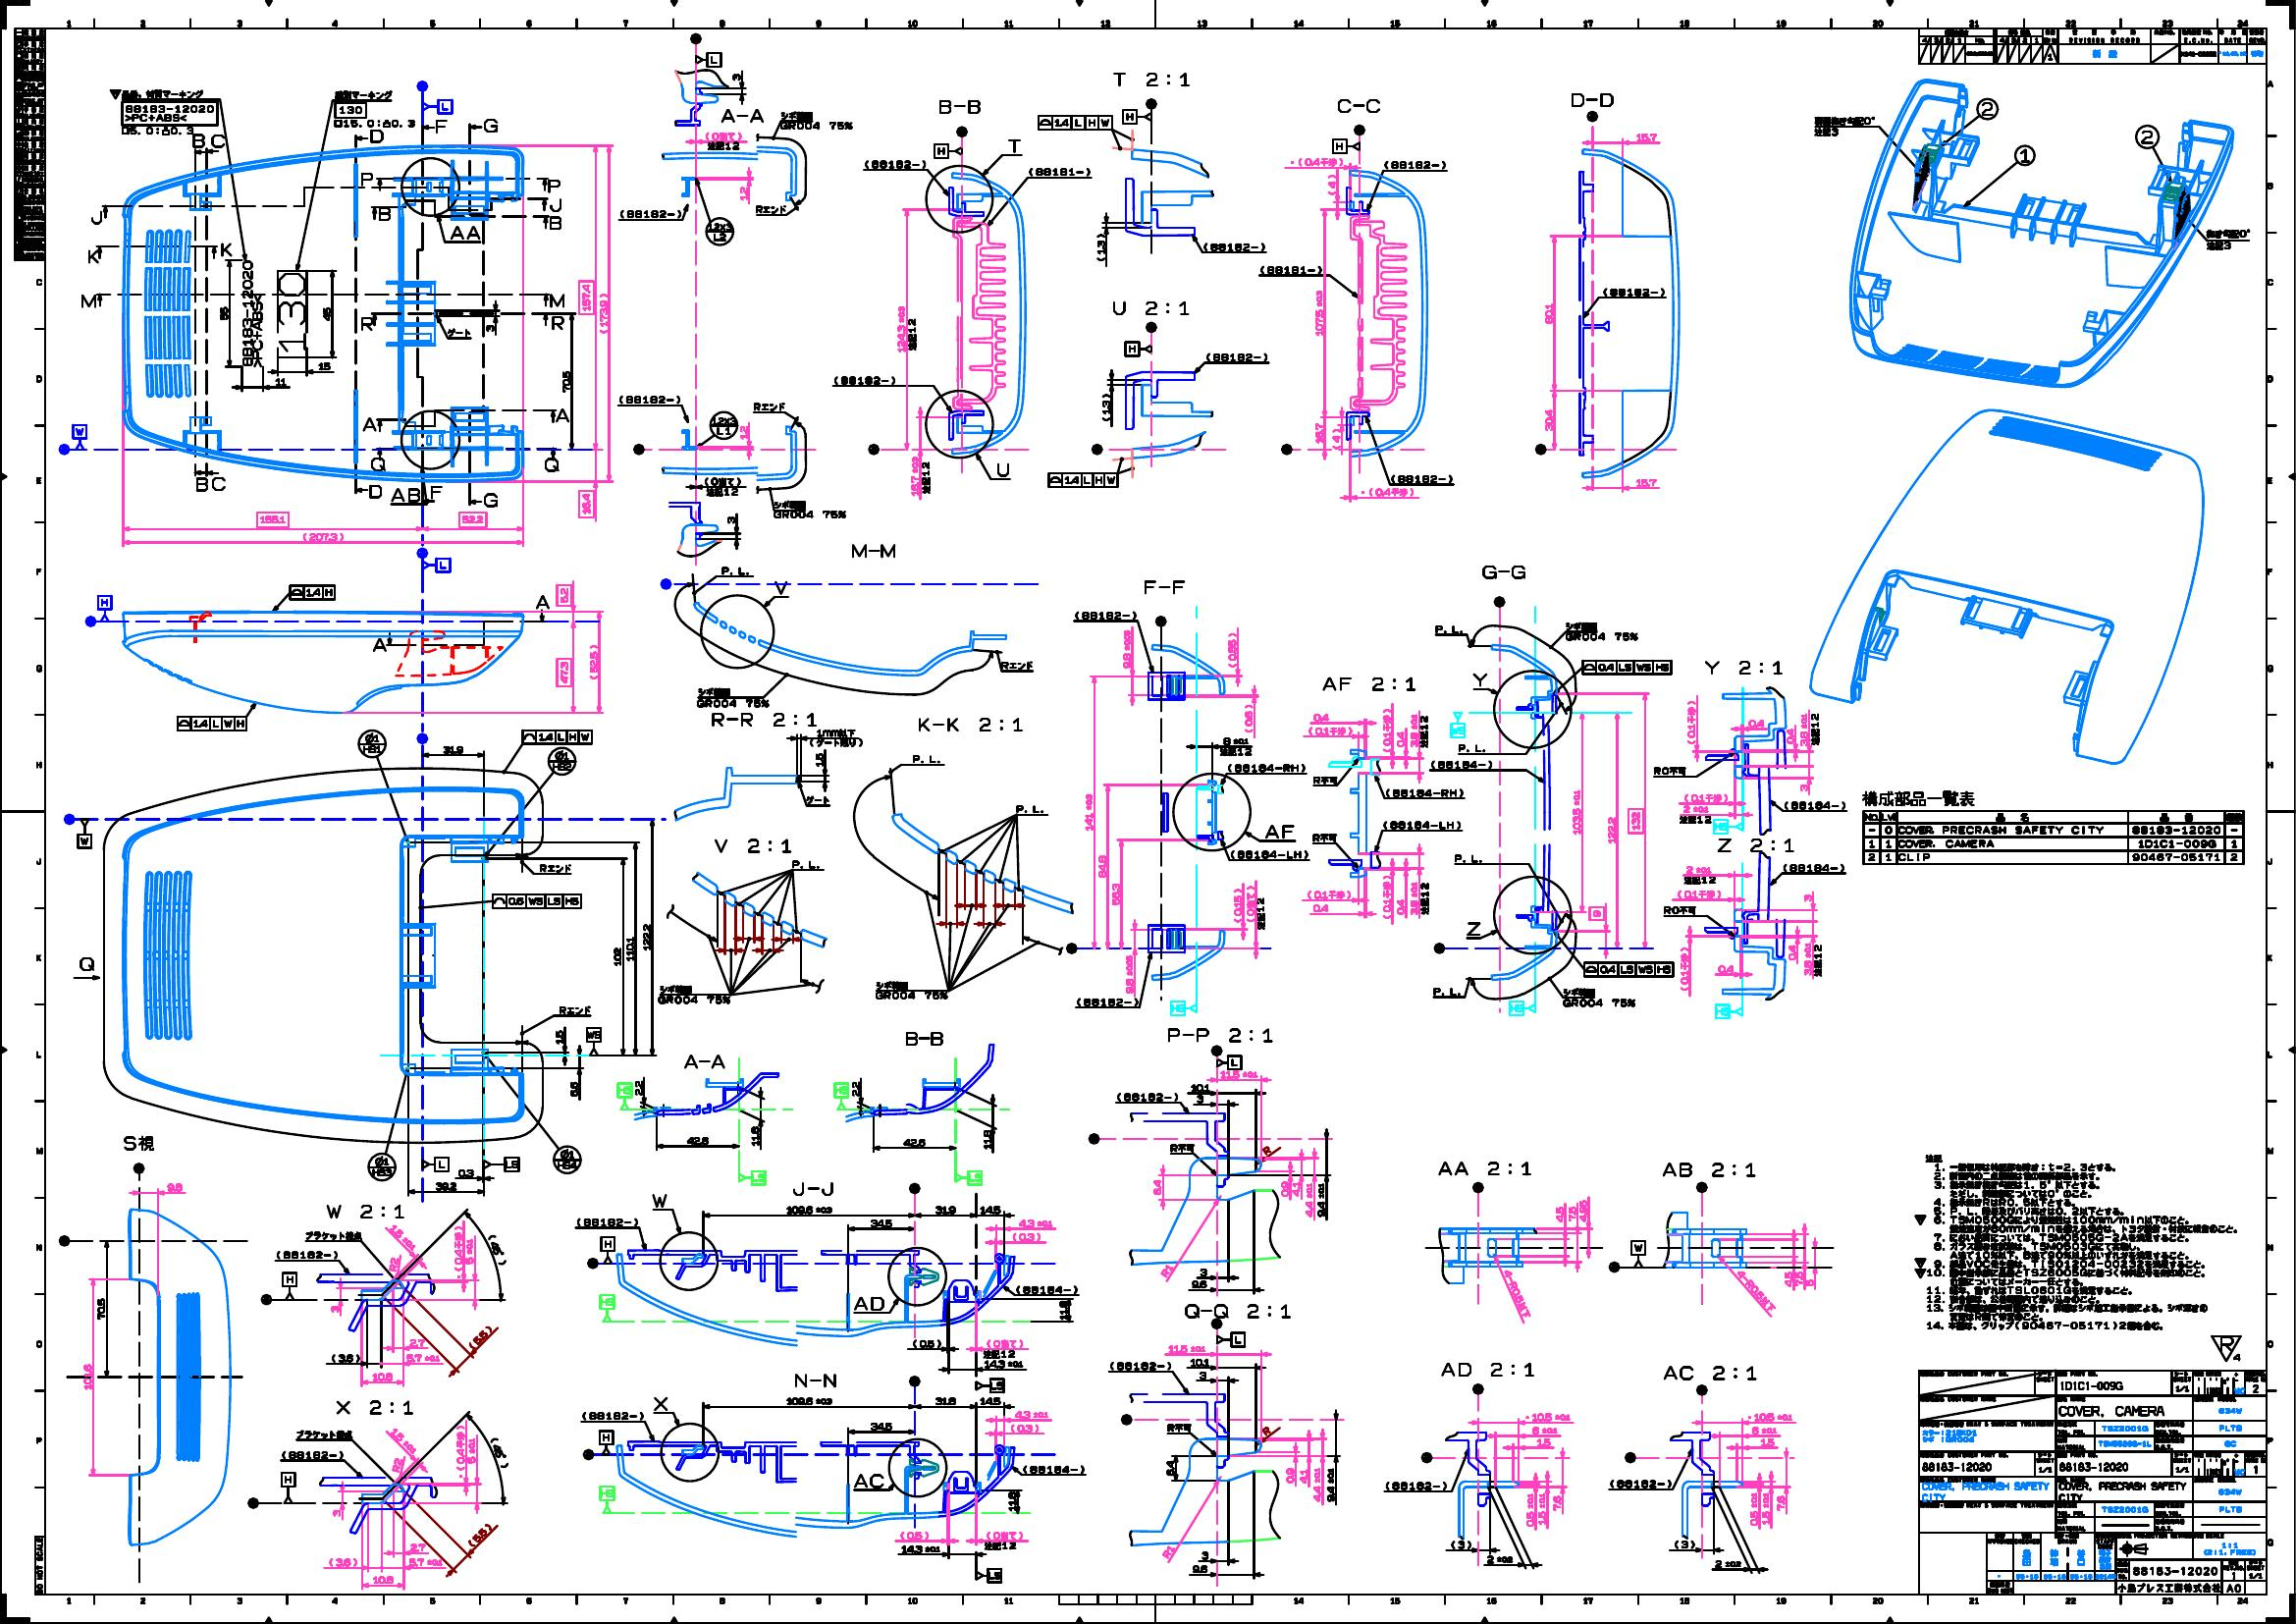anntotation_text: (1913, 1151, 2242, 1336), (1860, 789, 2247, 866), (107, 86, 218, 135), (330, 88, 415, 128), (1165, 1025, 1274, 1044), (913, 715, 1026, 733), (694, 685, 771, 708), (1180, 1302, 1291, 1318), (1321, 675, 1418, 692), (1660, 1160, 1757, 1178), (708, 710, 815, 726), (657, 982, 731, 1005), (1435, 1160, 1530, 1178), (1108, 297, 1191, 316), (1715, 837, 1797, 856), (773, 499, 848, 520), (1563, 620, 1639, 642), (873, 979, 949, 1000), (1112, 69, 1193, 88), (1562, 988, 1635, 1009), (1813, 114, 1876, 139), (1660, 1364, 1757, 1380), (1440, 1362, 1537, 1378), (778, 111, 856, 130), (323, 1202, 408, 1220), (1581, 659, 1672, 675), (490, 893, 581, 909), (2208, 1329, 2247, 1366), (711, 838, 792, 856), (1702, 657, 1783, 675), (1583, 961, 1672, 977), (336, 1399, 415, 1417), (1049, 471, 1117, 489), (1036, 114, 1112, 130), (2205, 227, 2252, 251), (177, 715, 248, 731), (808, 728, 863, 747), (980, 1336, 1024, 1359), (704, 214, 736, 246), (546, 745, 578, 777), (357, 728, 388, 759), (364, 1151, 395, 1183), (550, 1144, 581, 1176), (1226, 761, 1307, 773), (522, 729, 592, 743), (1384, 786, 1463, 798), (720, 105, 766, 127), (982, 1529, 1024, 1552), (708, 410, 740, 439), (617, 206, 682, 220), (833, 373, 898, 387), (863, 156, 928, 170), (1390, 471, 1453, 485), (901, 1028, 947, 1048), (1230, 849, 1310, 859), (682, 1051, 726, 1070), (1383, 819, 1462, 830), (1335, 97, 1383, 114), (1569, 90, 1616, 107), (791, 1371, 838, 1388), (1600, 285, 1667, 297), (1142, 576, 1184, 596), (1481, 562, 1527, 580), (1073, 608, 1138, 620), (1026, 165, 1091, 178), (1781, 861, 1846, 874), (1116, 1090, 1180, 1102), (1014, 1283, 1079, 1295), (1021, 1462, 1086, 1475), (1727, 1285, 1783, 1299), (703, 476, 740, 497), (848, 543, 898, 559), (1203, 241, 1267, 253), (1108, 1359, 1172, 1371), (704, 132, 743, 151), (2133, 123, 2161, 149), (295, 1429, 355, 1441), (304, 1229, 362, 1241), (615, 394, 682, 404), (1381, 160, 1448, 170), (274, 1250, 341, 1260), (936, 98, 980, 114), (1288, 156, 1344, 169), (1358, 485, 1414, 497), (1488, 1288, 1544, 1301), (1430, 759, 1495, 770), (1205, 352, 1270, 362), (1607, 1478, 1672, 1489), (1383, 1480, 1448, 1490), (580, 1410, 645, 1420), (1075, 997, 1138, 1007), (1685, 700, 1699, 747), (1783, 800, 1846, 810), (574, 1216, 638, 1227), (35, 1534, 46, 1596), (288, 585, 334, 599), (791, 1181, 836, 1195), (390, 487, 422, 506), (1976, 97, 2001, 121), (2011, 142, 2036, 167), (1263, 823, 1296, 840), (448, 223, 481, 241), (852, 1294, 885, 1311), (121, 1134, 155, 1151), (1676, 886, 1723, 898), (453, 1225, 464, 1280), (455, 1424, 466, 1478), (1381, 707, 1393, 752), (1260, 265, 1323, 274), (850, 1473, 885, 1489), (281, 1450, 344, 1459), (1683, 791, 1727, 803), (481, 1156, 518, 1171), (1305, 724, 1353, 735), (422, 97, 453, 112), (279, 1471, 295, 1503), (1332, 137, 1360, 155), (1123, 107, 1151, 125), (597, 1485, 615, 1513), (597, 1294, 615, 1322), (1679, 946, 1690, 991), (1381, 874, 1391, 919), (1305, 889, 1351, 900), (975, 1376, 1005, 1392), (281, 1271, 297, 1301), (557, 1004, 590, 1018), (1509, 1000, 1535, 1018), (696, 51, 722, 69), (597, 1429, 615, 1455), (998, 659, 1035, 671), (921, 459, 933, 496), (906, 316, 919, 353), (1715, 1004, 1743, 1019), (1449, 710, 1465, 738), (97, 594, 112, 622), (77, 817, 91, 849), (736, 1171, 768, 1185), (954, 1169, 982, 1185), (599, 1236, 615, 1264), (1418, 881, 1430, 916), (754, 202, 789, 214), (1809, 712, 1822, 747), (933, 142, 963, 156), (1713, 819, 1743, 833), (1216, 1332, 1245, 1346), (1124, 341, 1151, 357), (617, 1083, 632, 1109), (833, 1083, 848, 1109), (975, 1568, 1001, 1584), (1418, 715, 1430, 749), (538, 861, 571, 874), (587, 1026, 601, 1055), (422, 1156, 450, 1171), (1813, 942, 1823, 979), (548, 292, 567, 311), (374, 204, 393, 223), (83, 246, 102, 265), (88, 209, 107, 228), (365, 480, 385, 499), (357, 313, 376, 332), (750, 401, 785, 411), (1256, 896, 1267, 932), (1170, 1002, 1196, 1016), (72, 424, 86, 450), (371, 634, 388, 656), (1662, 905, 1697, 916), (1216, 1055, 1242, 1069), (1630, 1241, 1644, 1267), (1432, 986, 1462, 998), (1453, 851, 1483, 863), (1653, 765, 1686, 775), (422, 559, 450, 571), (1465, 919, 1483, 939), (432, 116, 450, 135), (481, 116, 499, 135), (545, 178, 562, 197), (546, 197, 564, 216), (545, 214, 564, 232), (546, 313, 566, 330), (553, 406, 573, 424), (541, 455, 560, 473), (483, 490, 501, 510), (532, 592, 550, 612), (773, 578, 791, 598), (994, 462, 1014, 480), (357, 169, 374, 188), (79, 292, 97, 311), (218, 241, 237, 258), (188, 132, 207, 149), (369, 453, 386, 473), (360, 415, 378, 434), (193, 475, 211, 494), (910, 752, 942, 763), (1014, 803, 1045, 814), (1679, 814, 1711, 824), (1165, 1422, 1191, 1434), (720, 566, 750, 576), (1433, 624, 1463, 634), (791, 858, 820, 868), (369, 127, 386, 144), (209, 132, 227, 149), (427, 483, 444, 501), (211, 475, 228, 492), (77, 956, 95, 974), (1458, 742, 1486, 752), (1683, 875, 1716, 884), (1310, 831, 1337, 842), (1219, 747, 1251, 756), (1168, 1142, 1195, 1153), (652, 1396, 669, 1411), (805, 796, 829, 807), (1470, 671, 1488, 685), (1312, 775, 1339, 784), (1007, 137, 1021, 153), (83, 613, 97, 629), (415, 731, 429, 747), (650, 1193, 666, 1207), (446, 329, 471, 337), (56, 441, 70, 455), (690, 32, 704, 46), (415, 79, 429, 93), (1351, 123, 1365, 137), (1089, 443, 1103, 457), (1144, 320, 1158, 334), (1693, 1179, 1708, 1193), (1607, 1260, 1621, 1274), (906, 1374, 921, 1388), (246, 1496, 260, 1510), (631, 443, 646, 455), (659, 575, 671, 591), (1281, 441, 1293, 457), (1154, 615, 1166, 629), (1144, 97, 1156, 111), (1585, 109, 1599, 121), (1534, 443, 1548, 455), (1209, 1044, 1223, 1056), (1419, 1452, 1433, 1464), (581, 1446, 594, 1461), (132, 1162, 146, 1174), (1065, 942, 1077, 956), (868, 443, 880, 455), (1433, 942, 1446, 954), (1493, 596, 1505, 608), (908, 1181, 921, 1193), (1472, 1383, 1484, 1396), (1472, 1181, 1484, 1193), (1121, 1413, 1133, 1425), (58, 1234, 70, 1246), (956, 125, 966, 139), (587, 1257, 597, 1271), (1693, 1383, 1708, 1394), (1209, 1318, 1223, 1329), (416, 547, 429, 557), (61, 814, 74, 824), (1089, 1132, 1100, 1144), (1623, 1452, 1635, 1462), (260, 1294, 272, 1304)
dimension_text: (578, 279, 596, 315), (783, 1202, 833, 1214), (255, 511, 288, 529), (1569, 789, 1581, 837), (302, 531, 346, 543), (896, 304, 906, 353), (783, 1396, 833, 1406), (1525, 1411, 1572, 1422), (1746, 1411, 1794, 1422), (1314, 288, 1325, 336), (1224, 633, 1238, 668), (1082, 793, 1094, 831), (557, 657, 573, 687), (910, 455, 921, 497), (458, 510, 487, 526), (1123, 629, 1133, 671), (1627, 808, 1644, 833), (982, 1359, 1022, 1369), (899, 1543, 940, 1554), (1124, 953, 1135, 993), (588, 642, 599, 682), (578, 490, 594, 517), (896, 1529, 929, 1541), (1242, 701, 1254, 735), (1245, 884, 1256, 923), (555, 584, 573, 606), (910, 1338, 942, 1350), (1008, 1420, 1040, 1432), (1231, 888, 1242, 924), (1303, 1183, 1314, 1218), (1535, 1492, 1546, 1527), (1525, 1492, 1535, 1527), (1325, 1466, 1335, 1501), (1802, 940, 1813, 975), (408, 1555, 443, 1566), (406, 1352, 441, 1362), (492, 1232, 502, 1267), (1409, 881, 1419, 916), (1528, 1424, 1558, 1436), (81, 1362, 93, 1392), (327, 1555, 357, 1568), (1166, 1345, 1207, 1353), (599, 292, 608, 332), (1219, 1069, 1260, 1077), (1748, 1492, 1758, 1526), (494, 1436, 504, 1469), (464, 1332, 497, 1343), (1312, 1466, 1321, 1503), (1409, 712, 1418, 749), (1096, 232, 1107, 262), (1484, 1554, 1514, 1564), (1100, 392, 1110, 422), (464, 1529, 494, 1540), (330, 1352, 360, 1362), (1606, 814, 1616, 844), (1316, 1183, 1325, 1218), (1760, 1490, 1769, 1526), (386, 1436, 422, 1445), (385, 1232, 420, 1241), (1017, 1218, 1052, 1227), (1014, 1410, 1049, 1418), (1542, 408, 1555, 432), (466, 1436, 476, 1464), (464, 1237, 474, 1265), (1799, 714, 1808, 747), (1449, 1538, 1472, 1550), (1751, 1425, 1778, 1436), (1685, 865, 1711, 875), (1223, 735, 1249, 745), (1012, 1232, 1042, 1241), (1542, 302, 1555, 323), (1326, 172, 1337, 197), (436, 1179, 457, 1192), (933, 1204, 957, 1214), (1058, 1299, 1070, 1320), (641, 923, 650, 951), (560, 369, 571, 392), (95, 1295, 105, 1318), (371, 1371, 393, 1381), (870, 1218, 892, 1229), (870, 1420, 892, 1431), (978, 1394, 1001, 1404), (982, 1127, 993, 1149), (750, 1123, 761, 1146), (441, 743, 464, 754), (1715, 1559, 1741, 1568), (1681, 805, 1708, 814), (683, 1135, 710, 1144), (625, 935, 634, 961), (1635, 132, 1657, 142), (1314, 422, 1325, 443), (978, 1204, 1000, 1214), (1007, 1490, 1017, 1512), (1310, 903, 1332, 914), (611, 946, 622, 967), (1579, 1199, 1588, 1223), (371, 1575, 395, 1584), (933, 1396, 957, 1404), (1112, 882, 1121, 907), (1098, 852, 1107, 877), (1634, 478, 1658, 487), (1289, 1179, 1300, 1199), (1284, 1466, 1295, 1485), (1189, 1357, 1209, 1367), (1555, 1204, 1565, 1223), (1674, 1538, 1693, 1548), (1189, 1083, 1209, 1093), (1395, 729, 1405, 749), (632, 1077, 643, 1097), (903, 1137, 926, 1146), (1590, 905, 1604, 919), (1191, 1562, 1207, 1575), (1165, 1459, 1175, 1476), (1189, 1278, 1207, 1288), (1551, 1494, 1562, 1512), (1774, 1494, 1785, 1512), (1716, 963, 1734, 974), (1332, 429, 1340, 450), (409, 1541, 427, 1552), (1748, 717, 1765, 728), (1785, 728, 1795, 745), (457, 1167, 474, 1178), (738, 186, 748, 202), (1535, 1436, 1551, 1446), (1758, 1436, 1774, 1446), (553, 1028, 564, 1044), (1152, 1179, 1163, 1195), (1281, 1179, 1289, 1197), (1159, 1547, 1177, 1555), (1567, 1204, 1576, 1222), (1783, 1271, 1792, 1288), (165, 1183, 183, 1192), (1312, 714, 1330, 722), (850, 1081, 859, 1098), (813, 752, 824, 766), (740, 425, 748, 441), (321, 306, 330, 322), (1298, 1468, 1307, 1483), (220, 306, 228, 322), (1794, 1271, 1802, 1287), (1788, 944, 1797, 960), (569, 1081, 578, 1097), (409, 1338, 425, 1346), (1397, 900, 1405, 916), (1260, 1144, 1272, 1155), (316, 362, 330, 371), (392, 1457, 401, 1471), (388, 1257, 397, 1271), (726, 515, 736, 526), (1260, 1425, 1270, 1436), (1195, 1093, 1205, 1104), (1799, 782, 1809, 793), (274, 378, 286, 387), (1200, 1550, 1209, 1561), (1198, 1369, 1207, 1380), (485, 323, 495, 332), (1804, 1278, 1815, 1287), (1802, 893, 1813, 902), (329, 1304, 339, 1313), (1159, 1267, 1172, 1274), (731, 72, 740, 81), (332, 1508, 341, 1517), (1200, 1267, 1207, 1276)
object: (98, 763, 545, 1144), (1806, 406, 2203, 766), (119, 141, 527, 485), (1848, 77, 2236, 388), (655, 65, 812, 561), (613, 1246, 1017, 1346), (1470, 624, 1578, 1000), (615, 1439, 1017, 1540), (125, 1207, 232, 1547), (1576, 146, 1683, 476), (1123, 146, 1216, 460), (1700, 682, 1788, 1002), (1145, 643, 1226, 982), (1344, 165, 1430, 460), (1124, 1111, 1282, 1267), (1126, 1392, 1282, 1547), (947, 169, 1028, 459), (891, 814, 1073, 912), (845, 1042, 996, 1121), (690, 872, 824, 947), (1446, 1429, 1521, 1540), (1671, 1429, 1746, 1540), (632, 1070, 780, 1121), (316, 1475, 439, 1534), (316, 1271, 436, 1332), (675, 765, 799, 821), (1326, 747, 1379, 877), (1439, 1225, 1541, 1285), (1667, 1209, 1750, 1269)
title_block: (1917, 1371, 2268, 1596), (1918, 28, 2268, 65), (12, 28, 46, 260)
